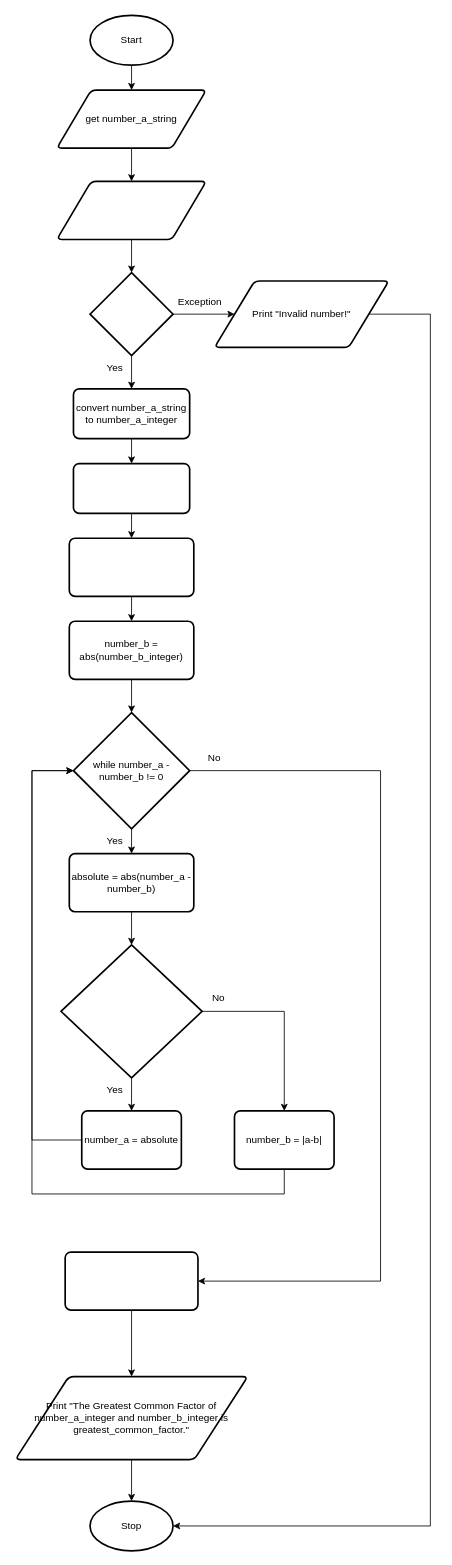
This 452x1565 diagram has some shape labels left out. Each missing label, with the centre of its shape:
convert number_b_string to number_b_integer: point (131, 488)
get number_b_string: point (131, 210)
greatest_common_factor = number_a: point (131, 1281)
if number_a > number_b: point (131, 1011)
number_a = abs(number_a_integer): point (131, 567)
try: point (131, 313)
